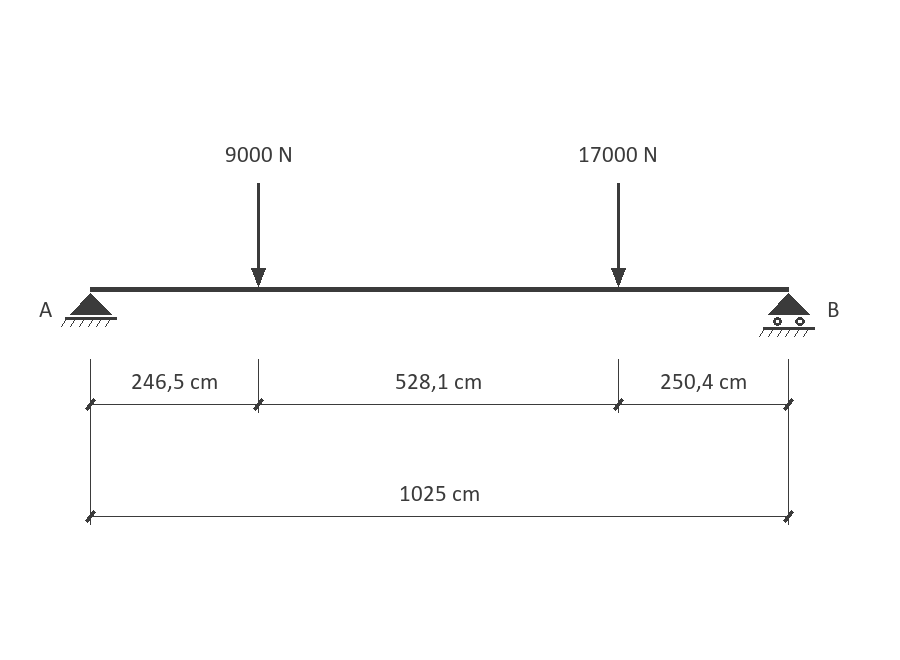pin_support: (61, 293, 117, 327)
point_load: (251, 183, 266, 287), (611, 183, 626, 287)
roller_support: (759, 293, 815, 337)
